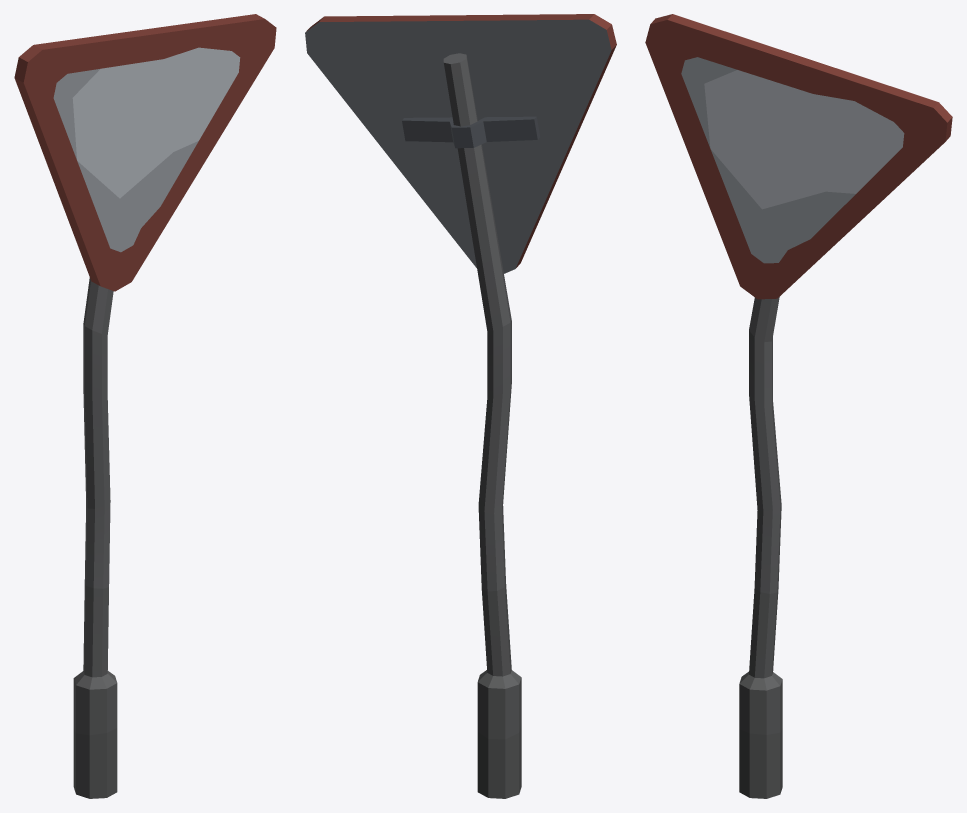
Rendered from SM_Prop_Sign_01 1.fbx.
The picture shows the model from 3 angles, left to right: view 1: azimuth 30°, elevation 25°; view 2: azimuth 150°, elevation 25°; view 3: azimuth 330°, elevation 25°; orthographic projection.
Visible parts, largest first — view 1: SM_Prop_Sign_01; view 2: SM_Prop_Sign_01; view 3: SM_Prop_Sign_01.
Boxes of the visible parts, x1=… form: SM_Prop_Sign_01: x1=14, y1=14, x2=276, y2=798; SM_Prop_Sign_01: x1=305, y1=14, x2=616, y2=798; SM_Prop_Sign_01: x1=645, y1=14, x2=952, y2=798.
Bounding box in the file's own units: 85.27 × 224 × 17.67.
Materials: 1 (1 with a texture image).
